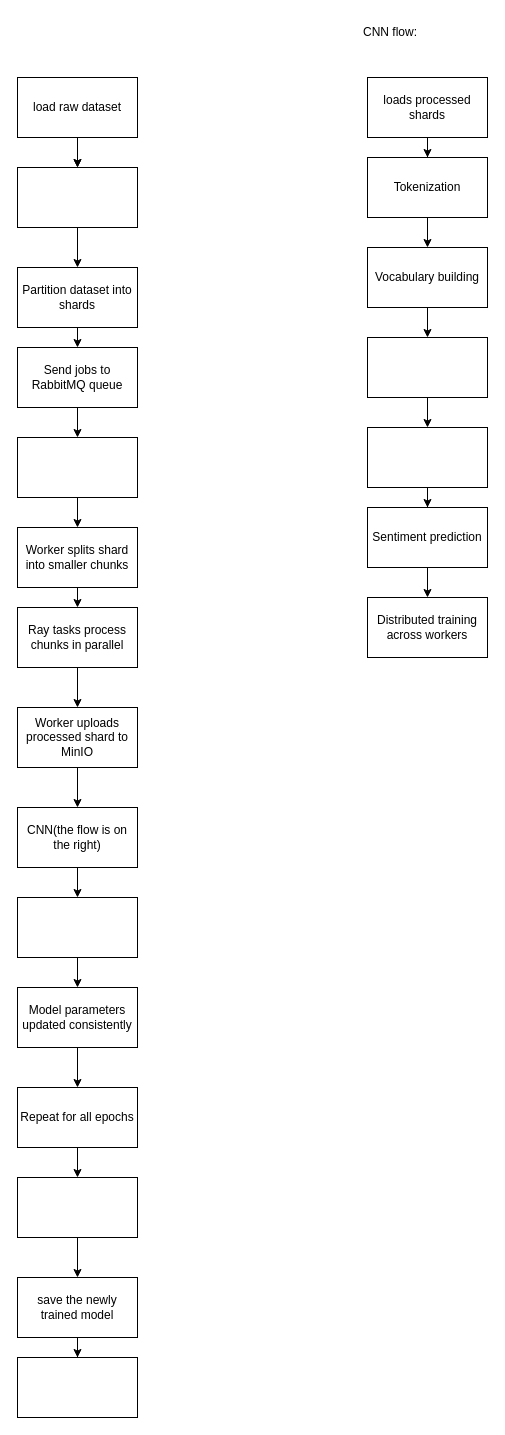
This 505x1435 diagram has some shape labels left out. The shapes that lost their labels are listed below. From the top down, each one's centre as x and y in pixels, then its label:
At (77,197): "Upload raw dataset to MinIO".
At (427,367): "sequence length normalization".
At (77,467): "Worker gets shard job".
At (427,457): "CNN model".
At (77,927): "DDP synchronizes gradients across workers".
At (77,1207): "hyperparams were handled and logs for workers and training were added".
At (77,1387): "api for job control and data access".
